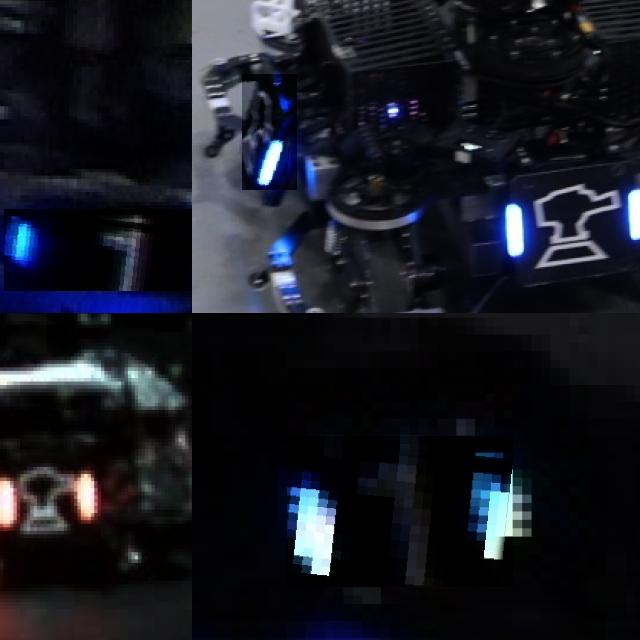B1: (287, 436, 513, 587), (4, 208, 192, 291)
Bs: (501, 173, 640, 273), (242, 74, 297, 190)
Rs: (0, 463, 90, 530)
